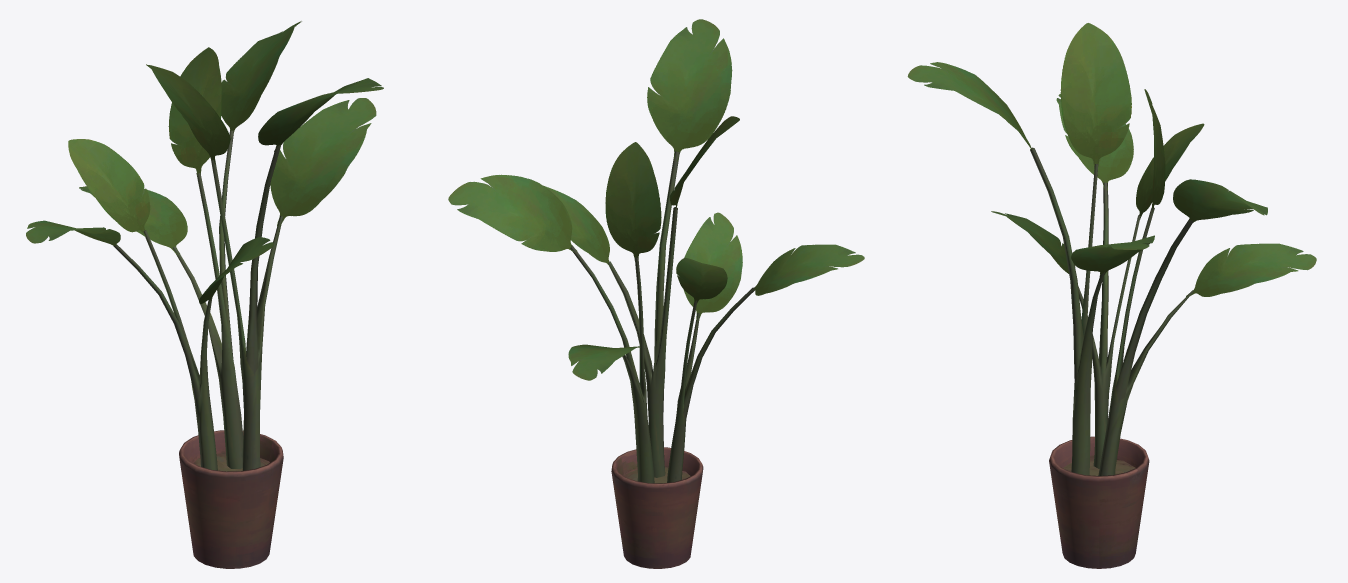
File: CactusFlowers_5.glb
3 views of the same model, side by side, from view 1: azimuth 30°, elevation 25°; view 2: azimuth 150°, elevation 25°; view 3: azimuth 270°, elevation 25° (orthographic). The views are drawn at different scales.
Visible parts, largest first — view 1: PlantPotted_0_B_LOD0; view 2: PlantPotted_0_B_LOD0; view 3: PlantPotted_0_B_LOD0.
Part boxes in pixels (x1,y1,x2,y2): PlantPotted_0_B_LOD0: (26, 21, 383, 568); PlantPotted_0_B_LOD0: (448, 19, 864, 568); PlantPotted_0_B_LOD0: (907, 23, 1316, 568).
Bounding box in the file's own units: 1.08 × 1.34 × 1.05.
2 materials, 2 textured.
